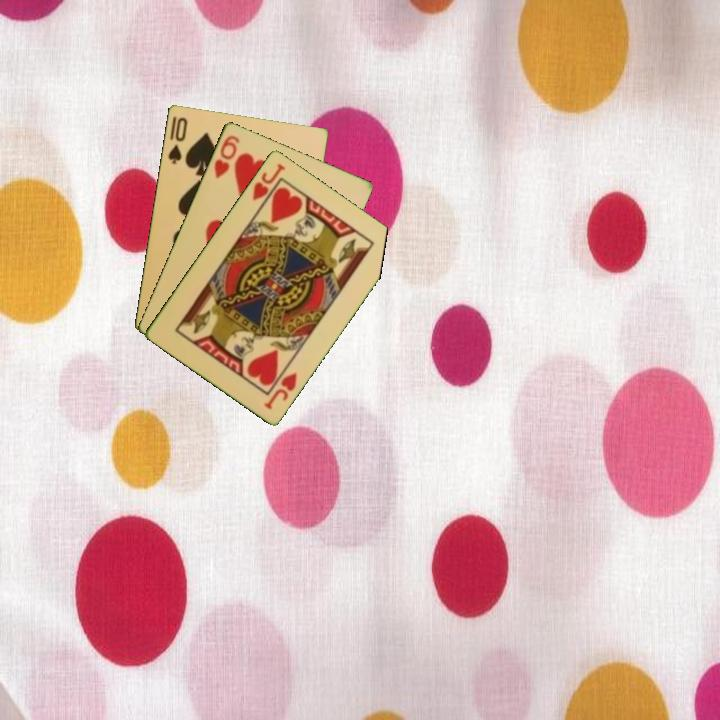10s: (164, 113, 190, 166)
6h: (210, 131, 242, 181)
Jh: (248, 159, 288, 203), (260, 368, 300, 412)
